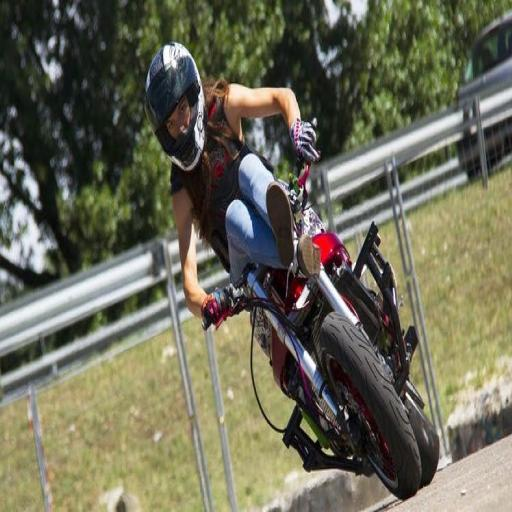helmet: (141, 34, 350, 380)
